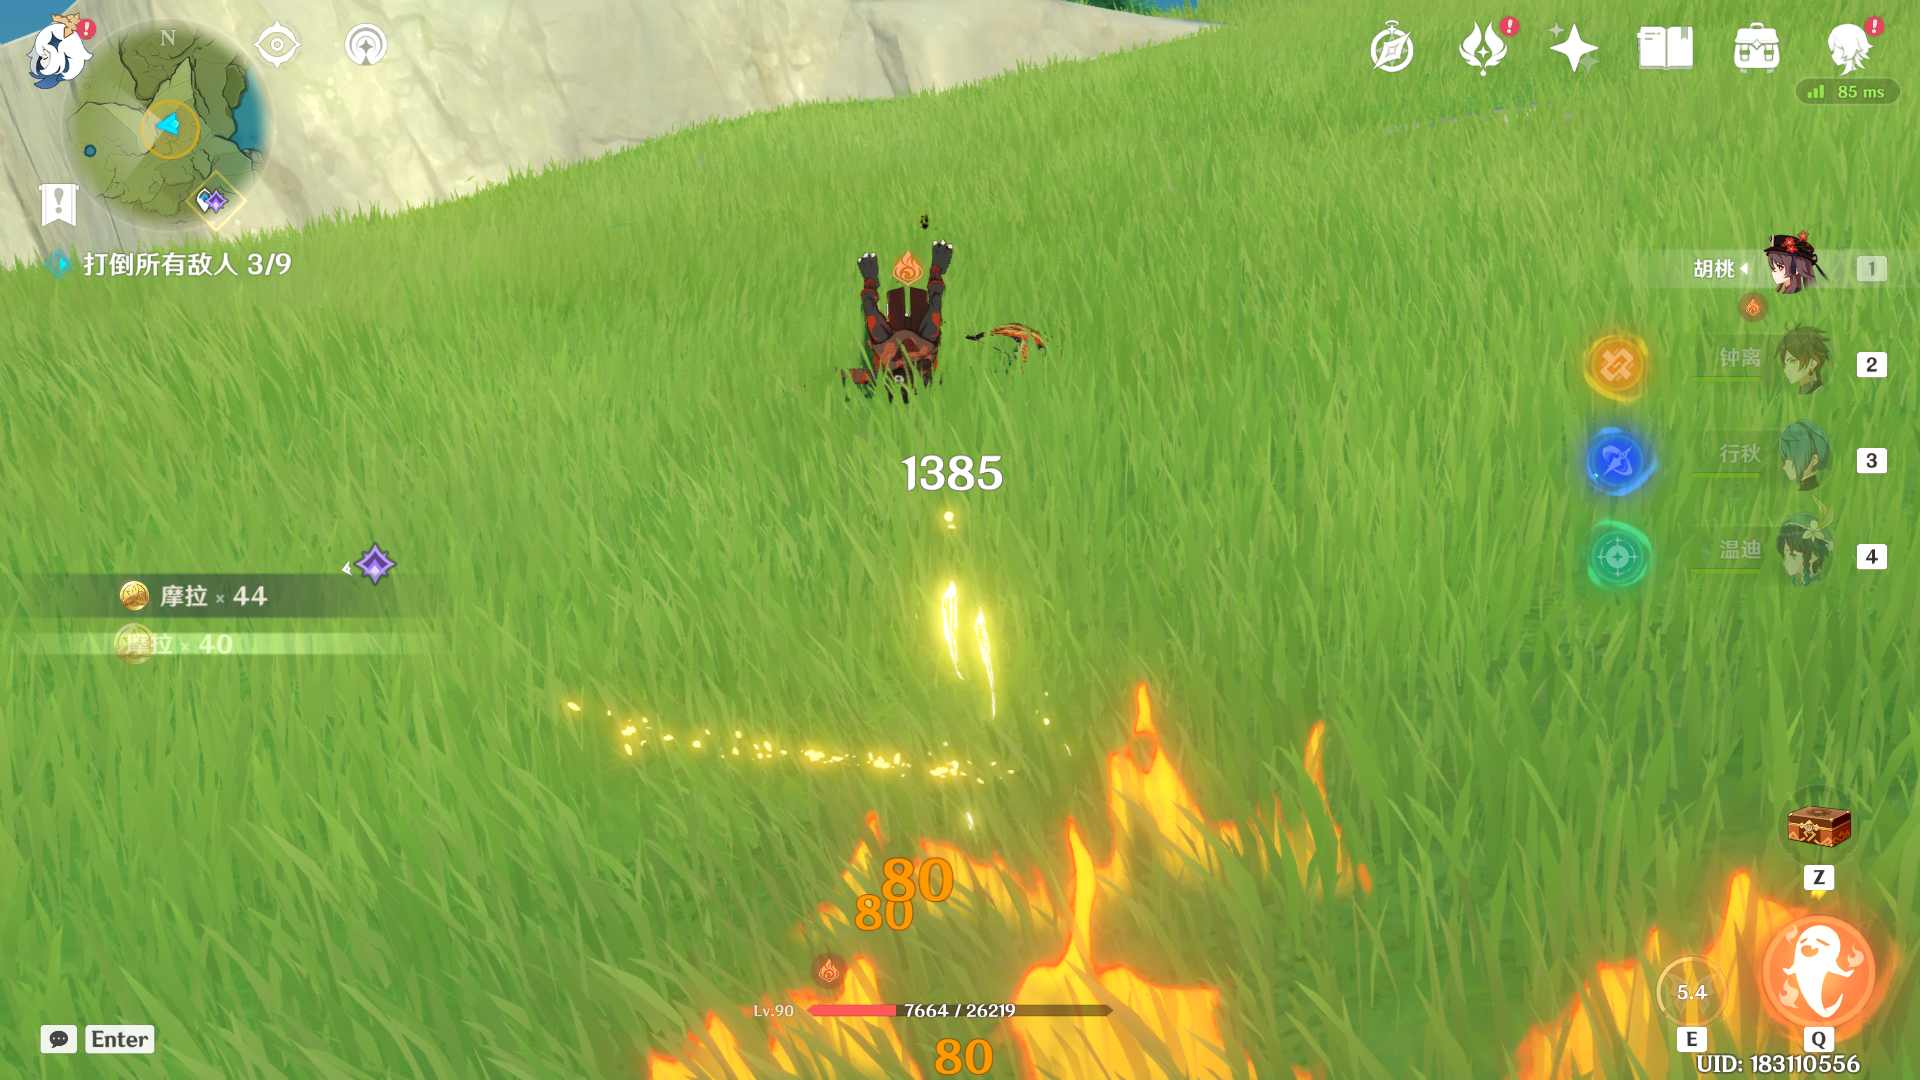hili: (762, 193, 1095, 455)
